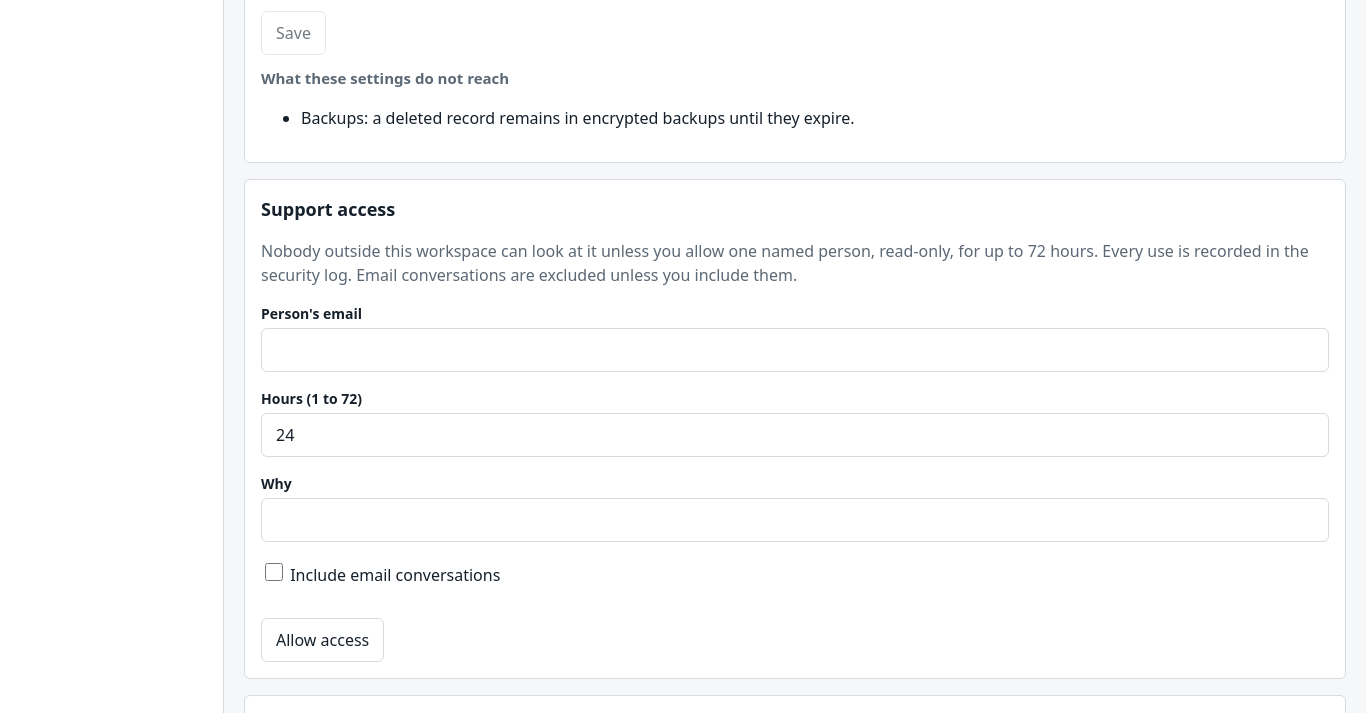
data and access › lets the owner allow one person in for a limited time and says what deletion does not reach
The image size is (1366, 713).
(page scrolled)
Expected: the list item "Backups: a deleted record remains in encrypted backups" is shown, [301,106,855,128]
Type "helper@example.test" into the field labelled "Person's email".
click(795, 350); type("helper@example.test")  # box [261,328,1329,372]
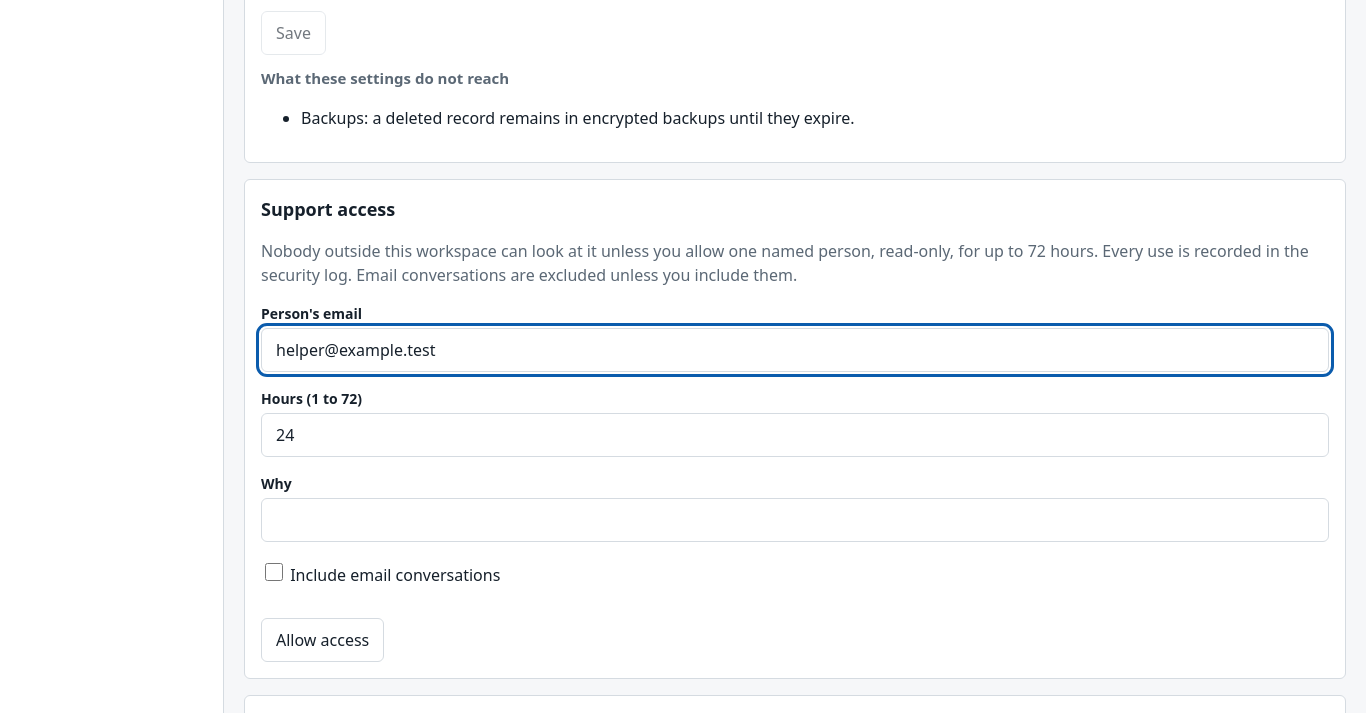
Replace the text in the number field labelled "Hours (1 to 72)" with "2" at [795, 434], box [261,412,1329,456]
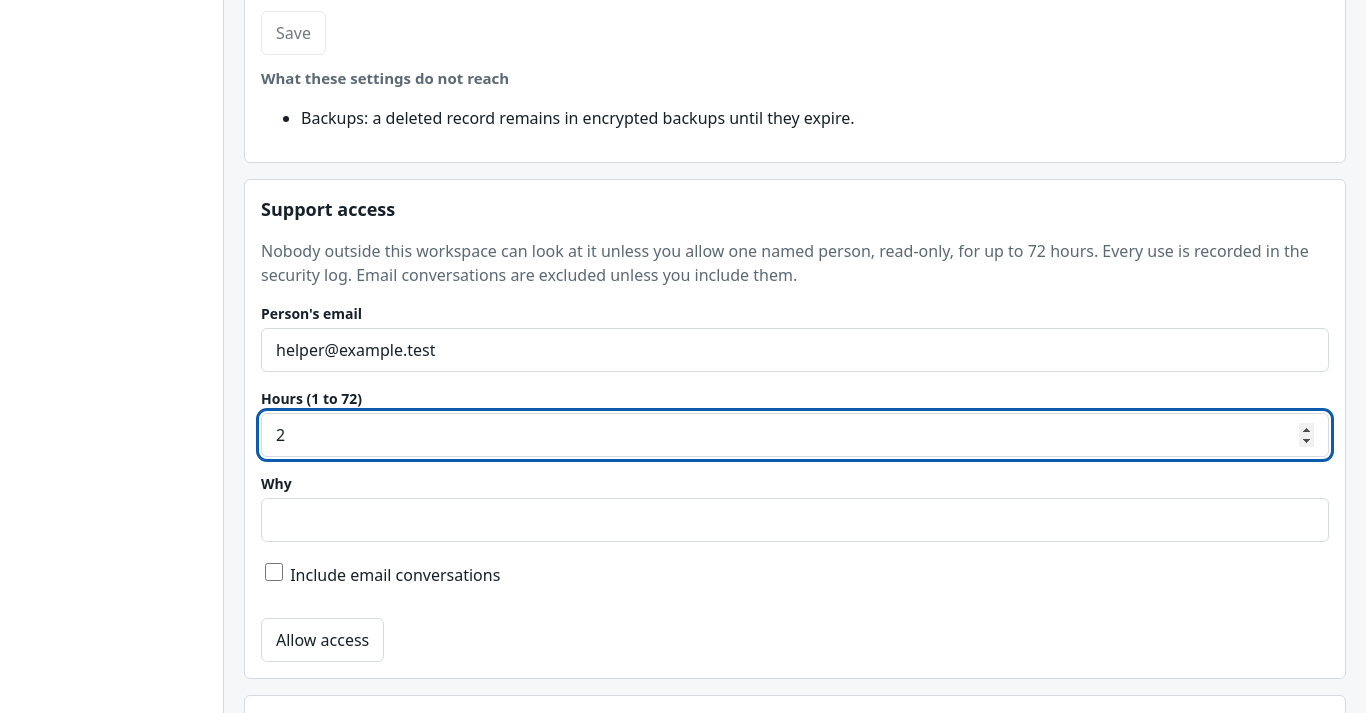
Type "Import shows no rows" into the field labelled "Why".
click(795, 520); type("Import shows no rows")  # box [261,498,1329,542]
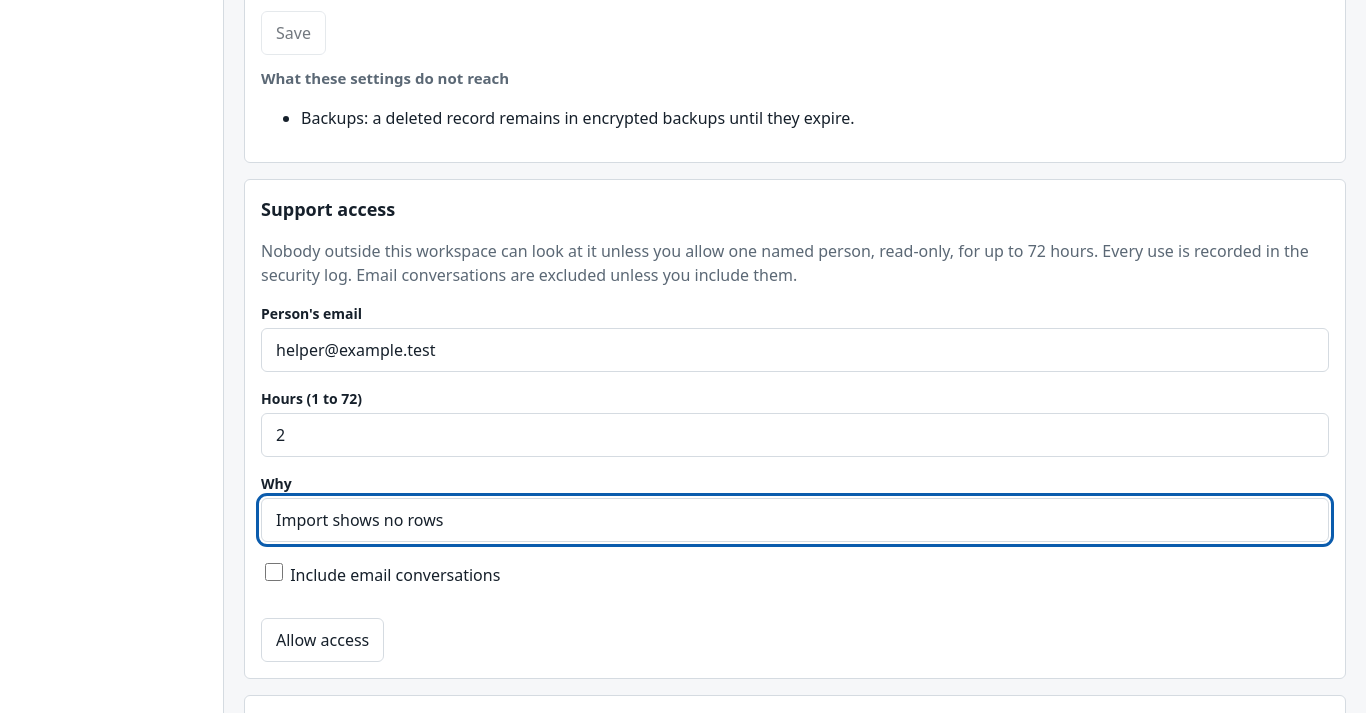
Click the button "Allow access".
click(323, 640)  # box [261,618,384,662]
(page scrolled)
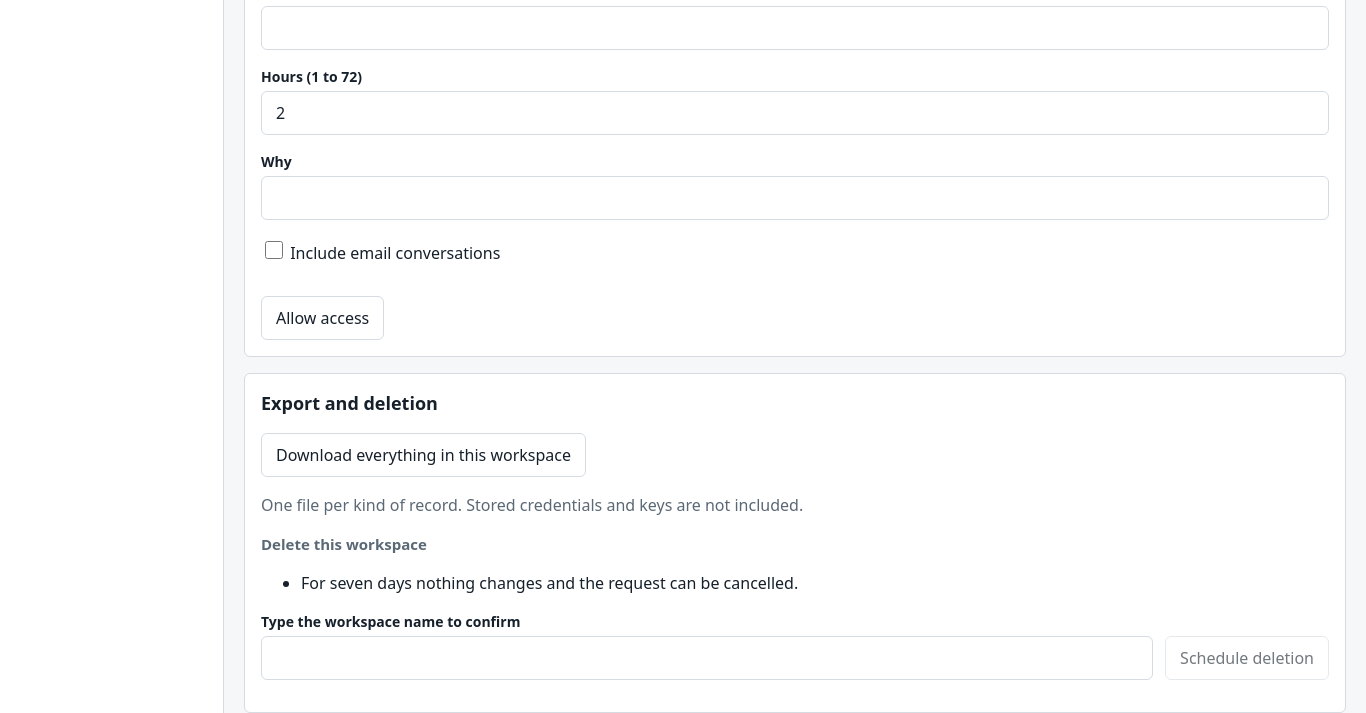
Expected: the button "Schedule deletion" is disabled, [1165,636,1329,680]
Type "SEWEB" into the field labelled "Type the workspace name to confirm".
click(707, 658); type("SEWEB")  # box [261,636,1153,680]
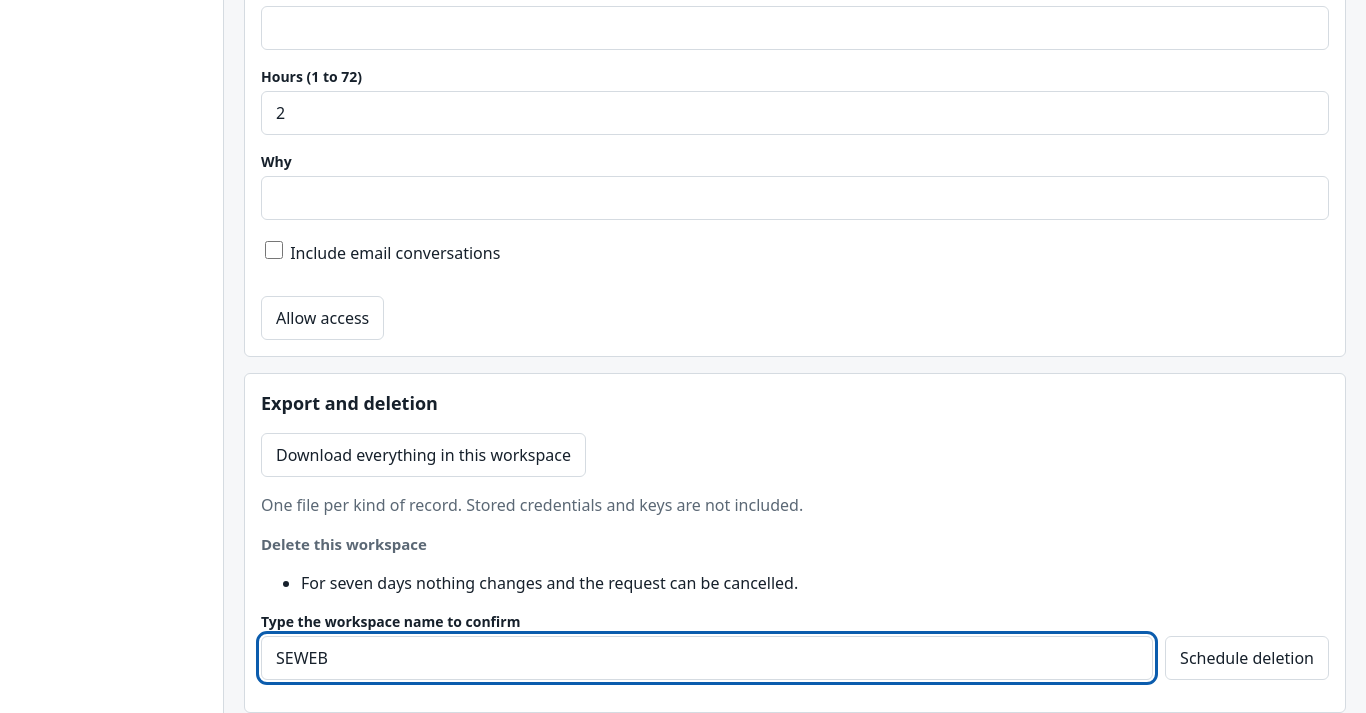
Expected: the button "Schedule deletion" is enabled, [1165,636,1329,680]
